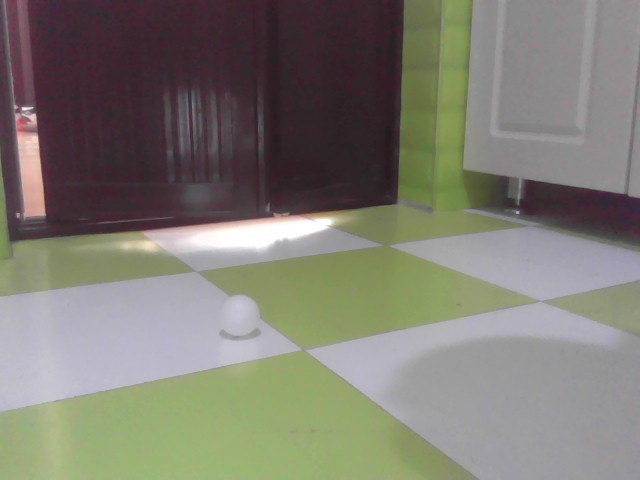ball: (217, 295, 261, 341)
